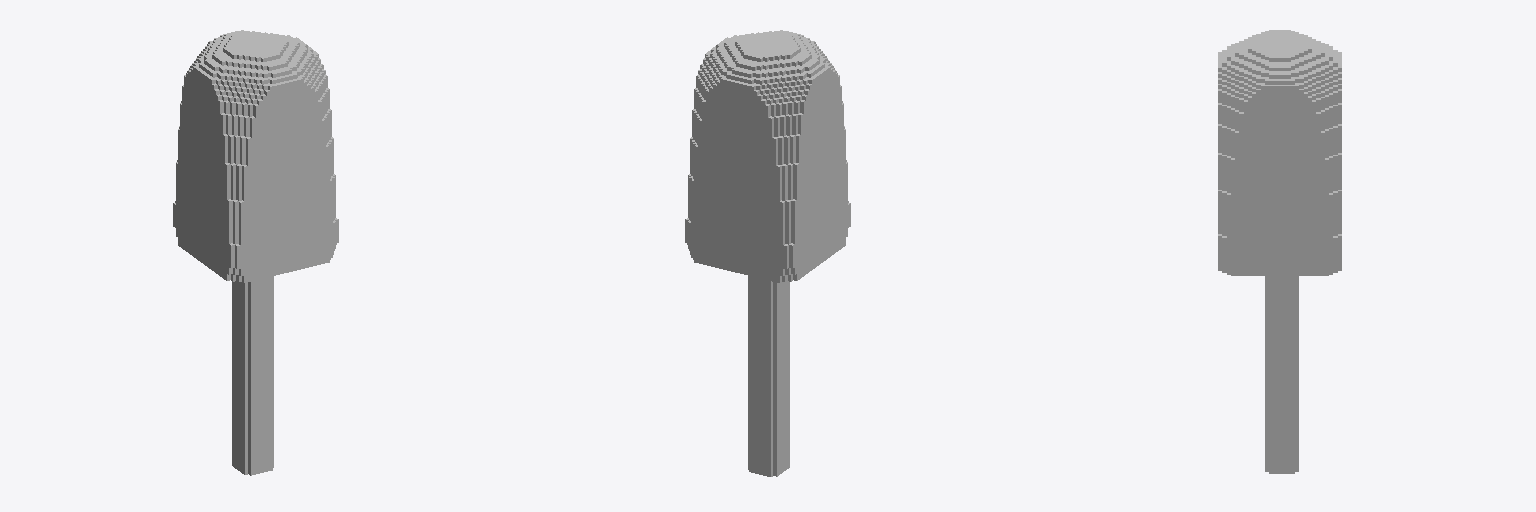
File: tree.obj
The picture shows the model from 3 angles: view 1: azimuth 30°, elevation 25°; view 2: azimuth 150°, elevation 25°; view 3: azimuth 270°, elevation 25°; orthographic projection.
Parts seen in each view (by area): view 1: object 1; view 2: object 1; view 3: object 1.
Part boxes in pixels (x1,y1,x2,y2): object 1: (173,30,338,475); object 1: (685,30,850,476); object 1: (1218,30,1341,473).
Bounding box in the file's own units: 2.9 × 10.9 × 2.9.